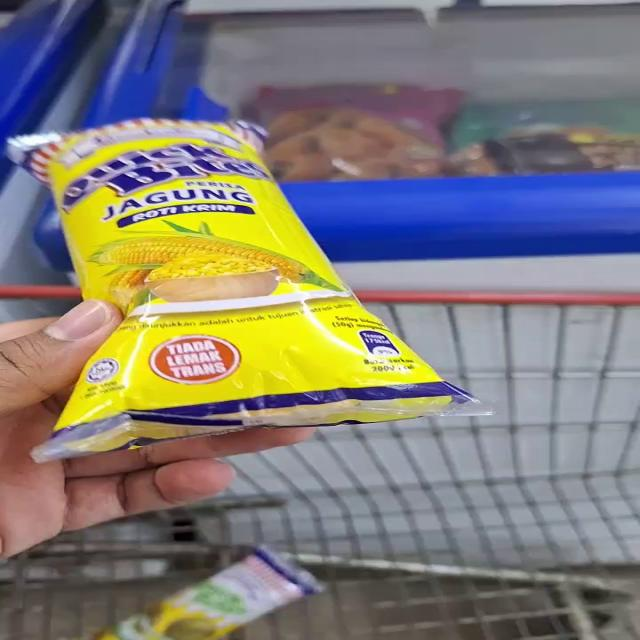Roti: (43, 241, 484, 444), (13, 119, 298, 258), (102, 558, 322, 640)
